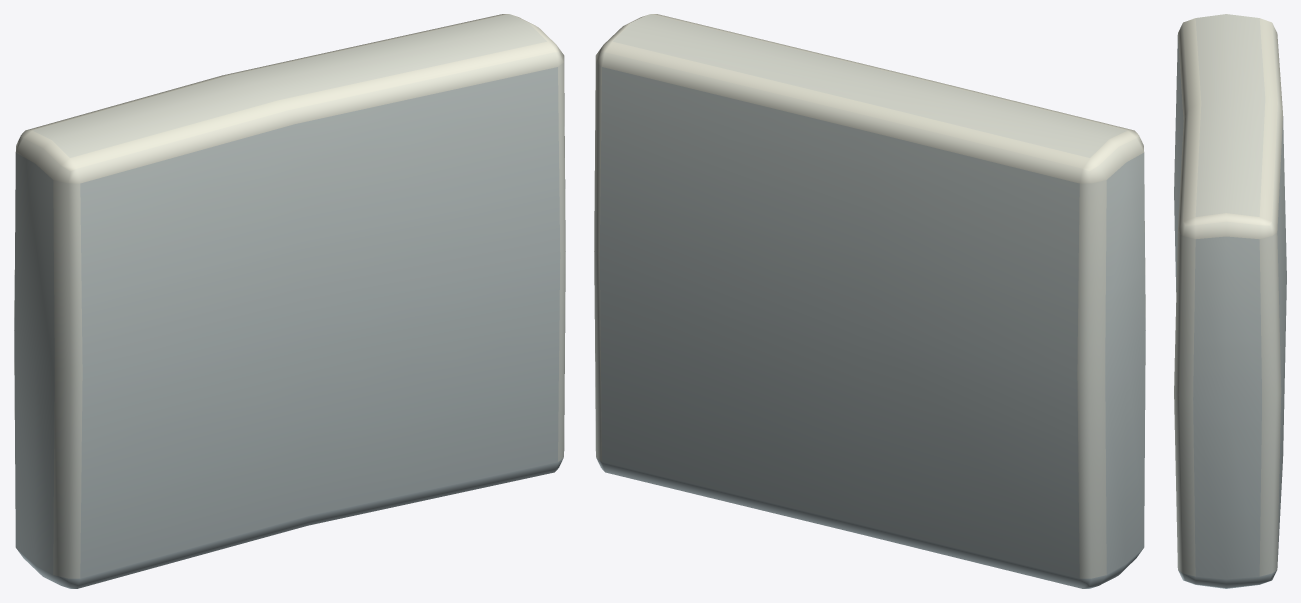
Rendered from Quartz_Fence_Wall.fbx.
3 renders of one model, left to right at view 1: azimuth 30°, elevation 25°; view 2: azimuth 150°, elevation 25°; view 3: azimuth 270°, elevation 25°, orthographic. The views are drawn at different scales.
Visible parts, largest first — view 1: Quartz_Fence_Wall_LOD0; view 2: Quartz_Fence_Wall_LOD0; view 3: Quartz_Fence_Wall_LOD0.
Boxes of the visible parts, x1,y1,x2,y2 form: Quartz_Fence_Wall_LOD0: (14,14,565,588); Quartz_Fence_Wall_LOD0: (594,14,1145,588); Quartz_Fence_Wall_LOD0: (1174,14,1286,588).
Size of what is drawn, in the model's own units: 1.07 by 0.8904 by 0.2405.
